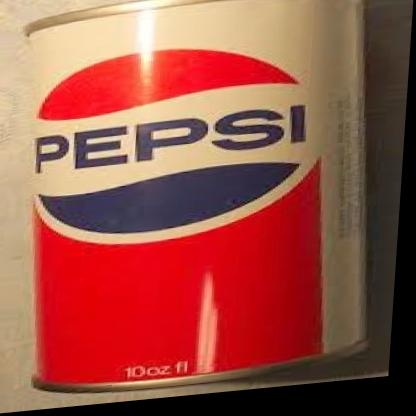trash: (26, 0, 364, 390)
